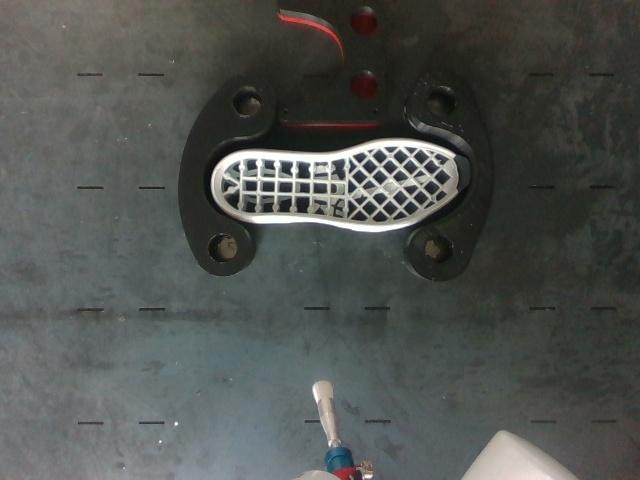shoes: (214, 140, 469, 228)
